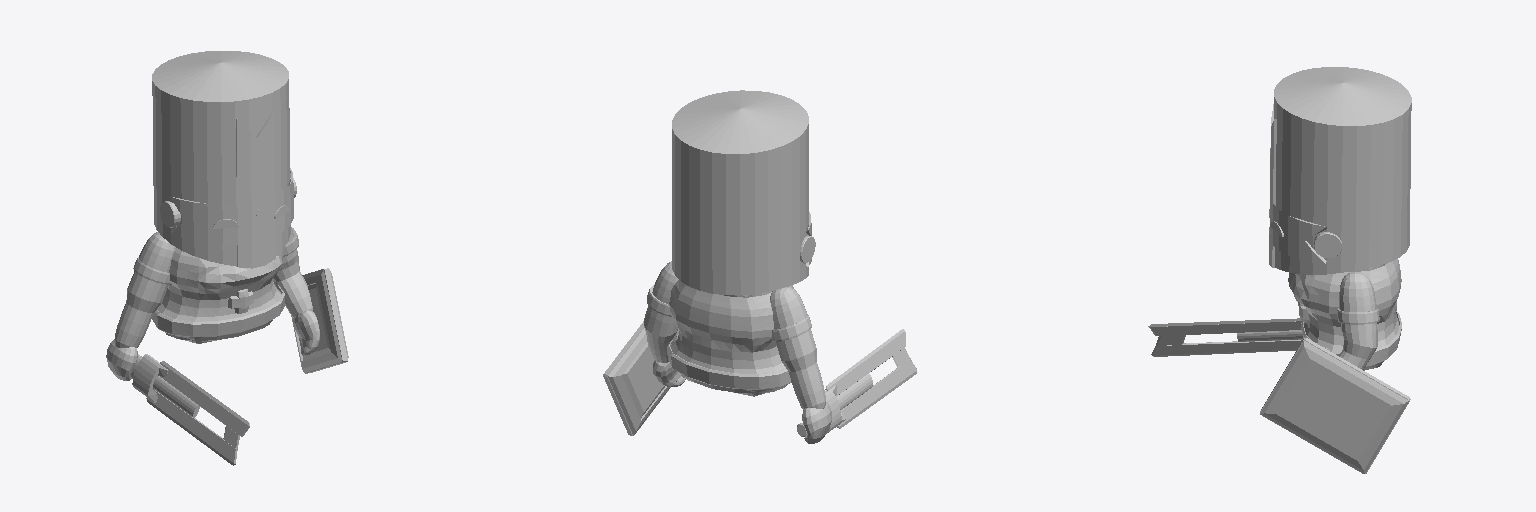
File: PinkKnightBody.obj
3 renders of one model, left to right at view 1: azimuth 30°, elevation 25°; view 2: azimuth 150°, elevation 25°; view 3: azimuth 270°, elevation 25°, orthographic.
Parts seen in each view (by area): view 1: BODY CENTRE CHEST Cylinder8 Cylinder11 HEAD HEAD1 KNIGHT polySur, BODY CENTRE CHEST Cylinder1 Cylinder9 HEAD HEAD1 KNIGHT polySurf, BODY BODY1 KNIGHT polySurface1 polySurface5, BODY CENTRE CHEST Cube2 Cube5 HAND KNIGHT LEFT_ARM LEFT_SHOULDER, BODY CENTRE CHEST Cube3 Cube7 HAND_1 KNIGHT RIGHT_ARM RIGHT_SHOU, KNIGHT Left_ARM Left_ARM1 meshes polySurface1 polySurface48, BODY BODY1 KNIGHT polySurface1 polySurface6, BODY CENTRE CHEST Cylinder Cylinder10 HAND_1 KNIGHT RIGHT_ARM RI, KNIGHT Right_ARM Right_ARM1 meshes polySurface1 polySurface45, KNIGHT Left_ARM Left_ARM1 meshes polySurface1 polySurface49, BODY CENTRE CHEST HAND HAND1 KNIGHT LEFT_ARM LEFT_SHOULDER polyS, BODY CENTRE CHEST HAND_1 HAND_11 KNIGHT RIGHT_ARM RIGHT_SHOULDER (+1 smaller); view 2: BODY CENTRE CHEST Cylinder8 Cylinder11 HEAD HEAD1 KNIGHT polySur, BODY BODY1 KNIGHT polySurface1 polySurface5, BODY CENTRE CHEST Cube2 Cube5 HAND KNIGHT LEFT_ARM LEFT_SHOULDER, KNIGHT Left_ARM Left_ARM1 meshes polySurface1 polySurface48, BODY CENTRE CHEST Cube3 Cube7 HAND_1 KNIGHT RIGHT_ARM RIGHT_SHOU, BODY BODY1 KNIGHT polySurface1 polySurface6, KNIGHT Right_ARM Right_ARM1 meshes polySurface1 polySurface45, KNIGHT Left_ARM Left_ARM1 meshes polySurface1 polySurface49, BODY CENTRE CHEST Cylinder Cylinder10 HAND_1 KNIGHT RIGHT_ARM RI, BODY CENTRE CHEST HAND_1 HAND_11 KNIGHT RIGHT_ARM RIGHT_SHOULDER, KNIGHT Right_ARM Right_ARM1 meshes polySurface1 polySurface46, BODY CENTRE CHEST Cube1 Cube4 HAND_1 KNIGHT RIGHT_ARM RIGHT_SHOU (+1 smaller); view 3: BODY CENTRE CHEST Cylinder8 Cylinder11 HEAD HEAD1 KNIGHT polySur, BODY CENTRE CHEST Cube2 Cube5 HAND KNIGHT LEFT_ARM LEFT_SHOULDER, BODY BODY1 KNIGHT polySurface1 polySurface5, BODY CENTRE CHEST Cube3 Cube7 HAND_1 KNIGHT RIGHT_ARM RIGHT_SHOU, BODY CENTRE CHEST Cylinder1 Cylinder9 HEAD HEAD1 KNIGHT polySurf, KNIGHT Right_ARM Right_ARM1 meshes polySurface1 polySurface45, KNIGHT Right_ARM Right_ARM1 meshes polySurface1 polySurface46, BODY CENTRE CHEST Cube1 Cube4 HAND_1 KNIGHT RIGHT_ARM RIGHT_SHOU, BODY CENTRE CHEST Cylinder Cylinder10 HAND_1 KNIGHT RIGHT_ARM RI, BODY BODY1 KNIGHT polySurface1 polySurface6, BODY CENTRE CHEST Cylinder2 Cylinder4 HEAD HEAD1 KNIGHT polySurf, KNIGHT Right_ARM Right_ARM1 meshes polySurface1 polySurface47.
Part boxes in pixels (left/top/right/bottom): BODY CENTRE CHEST Cylinder8 Cylinder11 HEAD HEAD1 KNIGHT polySur: left=152, top=51, right=290, bottom=266; BODY CENTRE CHEST Cylinder1 Cylinder9 HEAD HEAD1 KNIGHT polySurf: left=170, top=109, right=293, bottom=268; BODY BODY1 KNIGHT polySurface1 polySurface5: left=157, top=248, right=282, bottom=321; BODY CENTRE CHEST Cube2 Cube5 HAND KNIGHT LEFT_ARM LEFT_SHOULDER: left=291, top=268, right=348, bottom=373; BODY CENTRE CHEST Cube3 Cube7 HAND_1 KNIGHT RIGHT_ARM RIGHT_SHOU: left=146, top=362, right=247, bottom=462; KNIGHT Left_ARM Left_ARM1 meshes polySurface1 polySurface48: left=115, top=271, right=168, bottom=347; BODY BODY1 KNIGHT polySurface1 polySurface6: left=152, top=282, right=284, bottom=336; BODY CENTRE CHEST Cylinder Cylinder10 HAND_1 KNIGHT RIGHT_ARM RI: left=131, top=354, right=199, bottom=417; KNIGHT Right_ARM Right_ARM1 meshes polySurface1 polySurface45: left=273, top=249, right=312, bottom=317; KNIGHT Left_ARM Left_ARM1 meshes polySurface1 polySurface49: left=139, top=232, right=175, bottom=272; BODY CENTRE CHEST HAND HAND1 KNIGHT LEFT_ARM LEFT_SHOULDER polyS: left=293, top=310, right=319, bottom=355; BODY CENTRE CHEST HAND_1 HAND_11 KNIGHT RIGHT_ARM RIGHT_SHOULDER: left=106, top=339, right=137, bottom=380; BODY CENTRE CHEST Cylinder8 Cylinder11 HEAD HEAD1 KNIGHT polySur: left=672, top=90, right=808, bottom=295; BODY BODY1 KNIGHT polySurface1 polySurface5: left=669, top=280, right=793, bottom=373; BODY CENTRE CHEST Cube2 Cube5 HAND KNIGHT LEFT_ARM LEFT_SHOULDER: left=603, top=321, right=678, bottom=435; KNIGHT Left_ARM Left_ARM1 meshes polySurface1 polySurface48: left=776, top=329, right=825, bottom=409; BODY CENTRE CHEST Cube3 Cube7 HAND_1 KNIGHT RIGHT_ARM RIGHT_SHOU: left=825, top=332, right=916, bottom=426; BODY BODY1 KNIGHT polySurface1 polySurface6: left=667, top=335, right=791, bottom=389; KNIGHT Right_ARM Right_ARM1 meshes polySurface1 polySurface45: left=644, top=305, right=677, bottom=362; KNIGHT Left_ARM Left_ARM1 meshes polySurface1 polySurface49: left=770, top=287, right=807, bottom=329; BODY CENTRE CHEST Cylinder Cylinder10 HAND_1 KNIGHT RIGHT_ARM RI: left=797, top=374, right=872, bottom=436; BODY CENTRE CHEST HAND_1 HAND_11 KNIGHT RIGHT_ARM RIGHT_SHOULDER: left=802, top=402, right=831, bottom=443; KNIGHT Right_ARM Right_ARM1 meshes polySurface1 polySurface46: left=652, top=261, right=678, bottom=304; BODY CENTRE CHEST Cube1 Cube4 HAND_1 KNIGHT RIGHT_ARM RIGHT_SHOU: left=826, top=329, right=916, bottom=428; BODY CENTRE CHEST Cylinder8 Cylinder11 HEAD HEAD1 KNIGHT polySur: left=1274, top=67, right=1411, bottom=274; BODY CENTRE CHEST Cube2 Cube5 HAND KNIGHT LEFT_ARM LEFT_SHOULDER: left=1260, top=338, right=1410, bottom=473; BODY BODY1 KNIGHT polySurface1 polySurface5: left=1288, top=259, right=1401, bottom=350; BODY CENTRE CHEST Cube3 Cube7 HAND_1 KNIGHT RIGHT_ARM RIGHT_SHOU: left=1150, top=321, right=1302, bottom=355; BODY CENTRE CHEST Cylinder1 Cylinder9 HEAD HEAD1 KNIGHT polySurf: left=1269, top=104, right=1326, bottom=267; KNIGHT Right_ARM Right_ARM1 meshes polySurface1 polySurface45: left=1338, top=323, right=1377, bottom=369; KNIGHT Right_ARM Right_ARM1 meshes polySurface1 polySurface46: left=1339, top=272, right=1376, bottom=311; BODY CENTRE CHEST Cube1 Cube4 HAND_1 KNIGHT RIGHT_ARM RIGHT_SHOU: left=1148, top=318, right=1300, bottom=356; BODY CENTRE CHEST Cylinder Cylinder10 HAND_1 KNIGHT RIGHT_ARM RI: left=1237, top=323, right=1302, bottom=341; BODY BODY1 KNIGHT polySurface1 polySurface6: left=1301, top=311, right=1401, bottom=367; BODY CENTRE CHEST Cylinder2 Cylinder4 HEAD HEAD1 KNIGHT polySurf: left=1314, top=232, right=1341, bottom=257; KNIGHT Right_ARM Right_ARM1 meshes polySurface1 polySurface47: left=1337, top=308, right=1379, bottom=324.
Bounding box in the file's own units: 86.1 × 138 × 95.78.